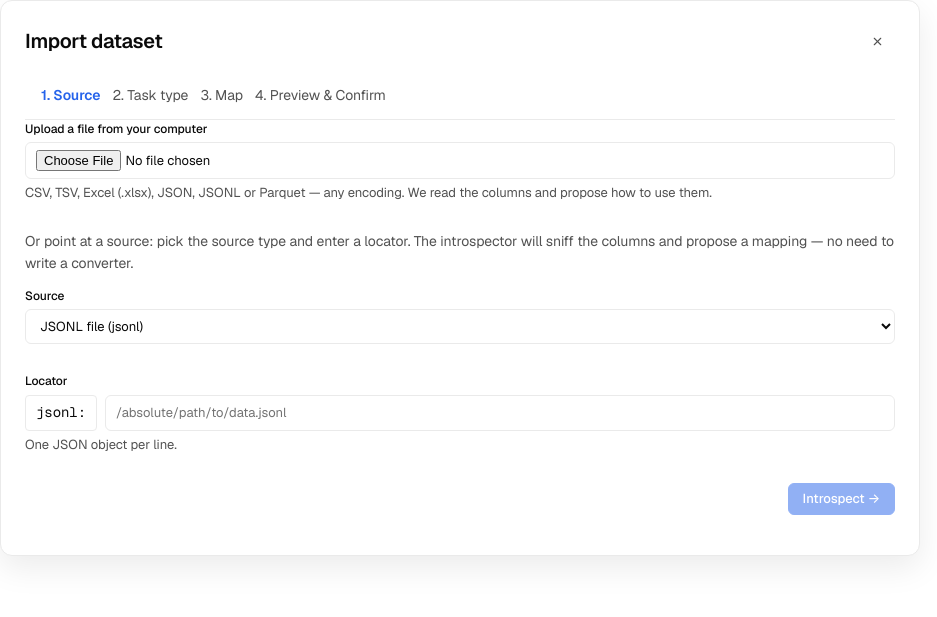
DatasetImportWizard › surfaces an introspect error and stays on the source step
In the field with test id "locator-input": (500, 413) [105, 395, 895, 431], type "/tmp/nope.jsonl"
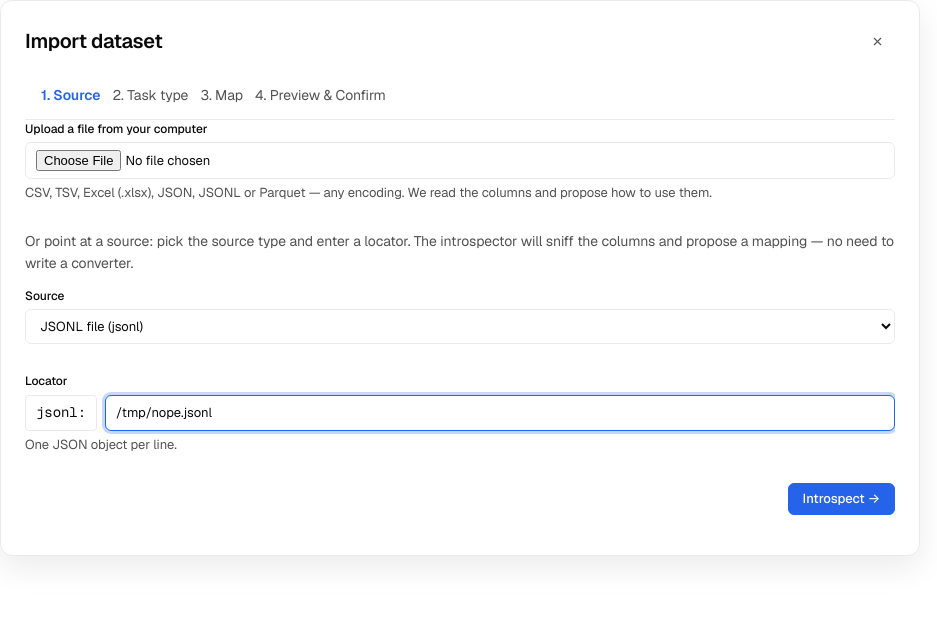
Click the button with test id "introspect-btn": (841, 499) [788, 483, 895, 515]
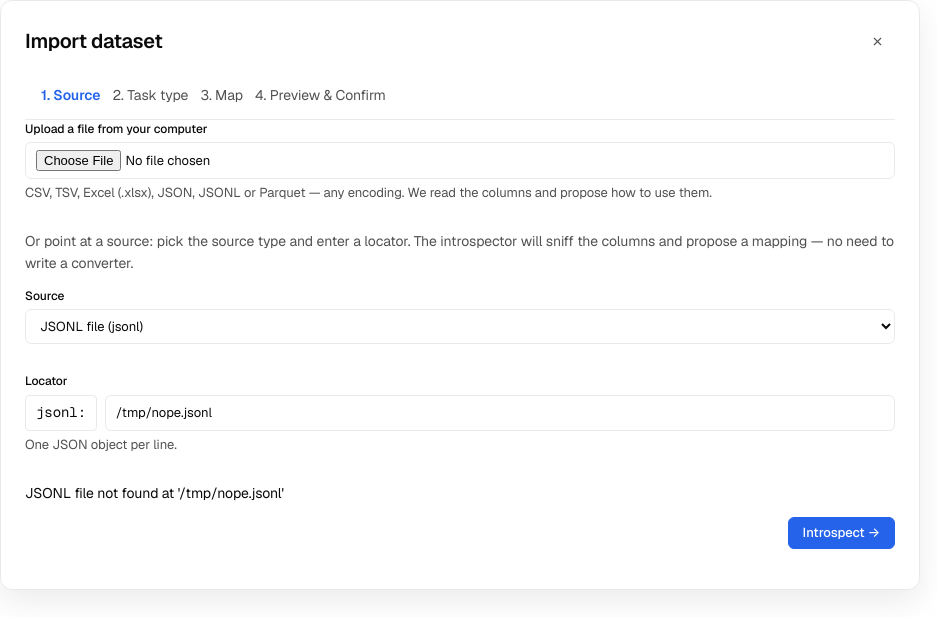
Now the text with test id "introspect-error" shows "not found", box [25, 484, 284, 502]
